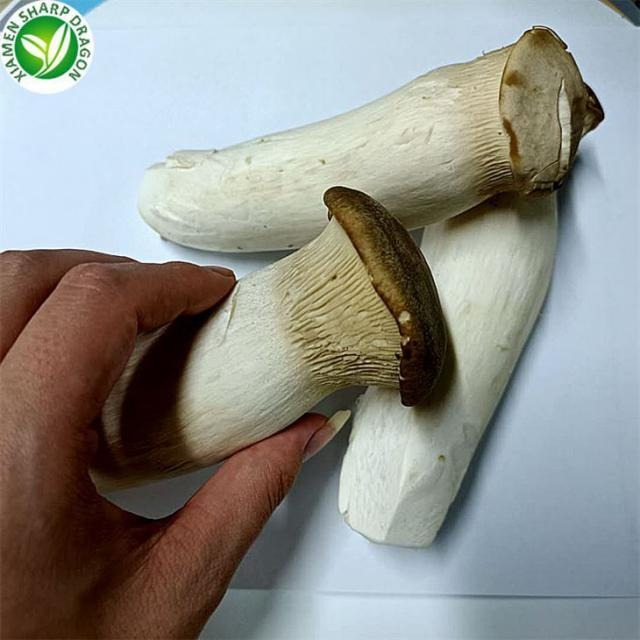Pleurotus eryngii: (70, 187, 451, 478), (142, 25, 605, 252)
